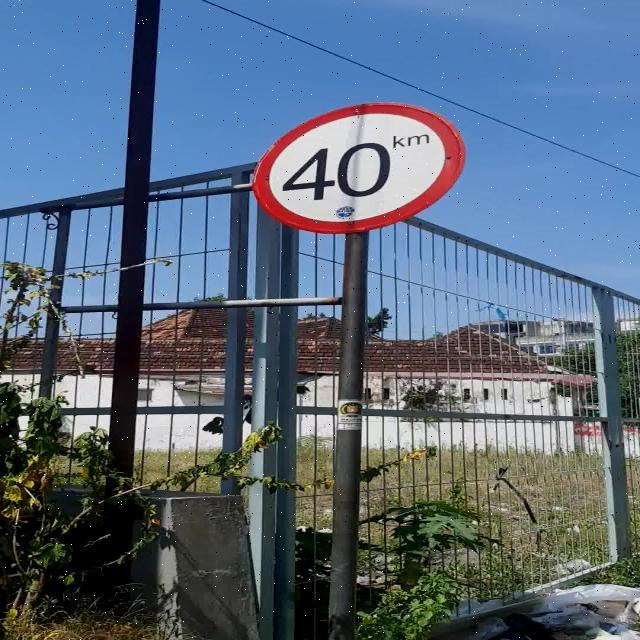Kecepatan Maks. 40 km: (254, 102, 466, 234)
